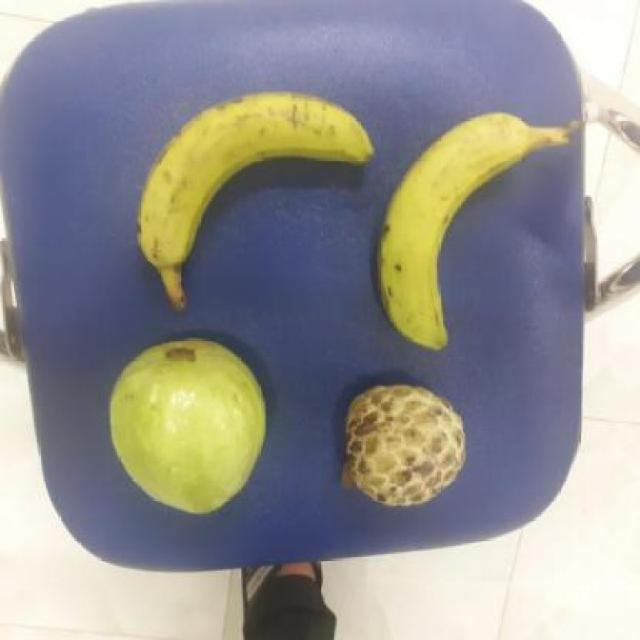banana: (127, 91, 370, 274), (370, 111, 538, 347)
guava: (102, 339, 266, 513)
sugar apple: (331, 385, 467, 510)
